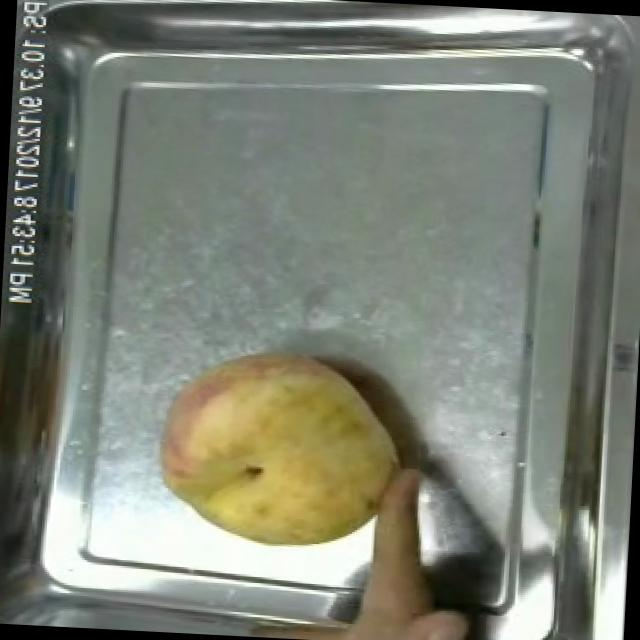Fruit: (144, 338, 410, 562)
